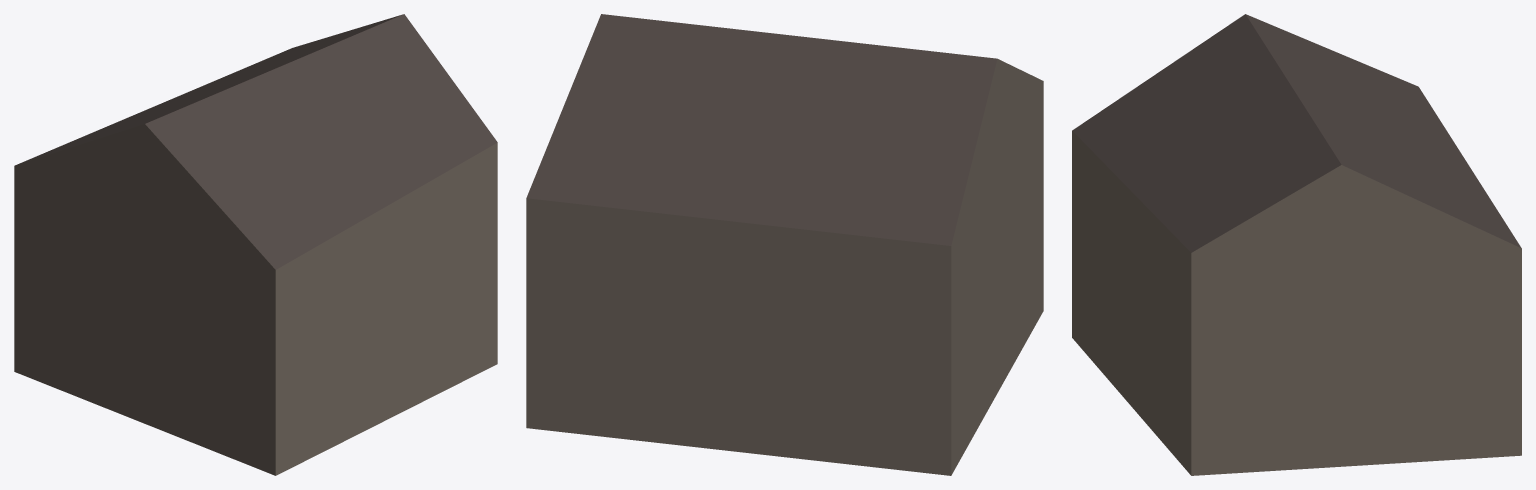
The picture shows the model from 3 angles, left to right: view 1: azimuth 30°, elevation 25°; view 2: azimuth 150°, elevation 25°; view 3: azimuth 270°, elevation 25°; orthographic projection. The views are drawn at different scales.
Parts seen in each view (by area): view 1: HP-w1516161962; view 2: HP-w1516161962; view 3: HP-w1516161962.
Boxes of the visible parts, <box> form: HP-w1516161962: <box>14,14,497,475</box>; HP-w1516161962: <box>526,14,1043,475</box>; HP-w1516161962: <box>1072,14,1521,475</box>.
Size of the model in its own units: 11.3 by 8.74 by 11.8.
